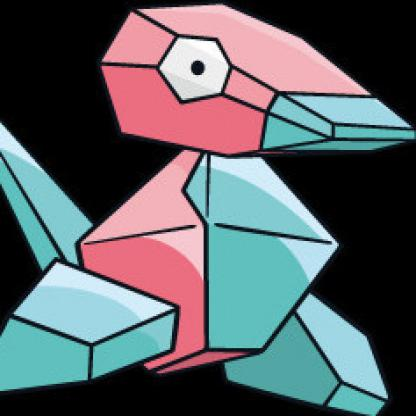Porygon: (1, 1, 415, 415)
